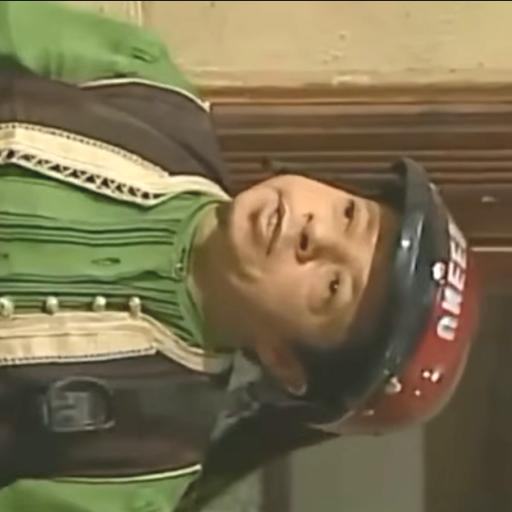fouchika: (194, 174, 393, 363)
